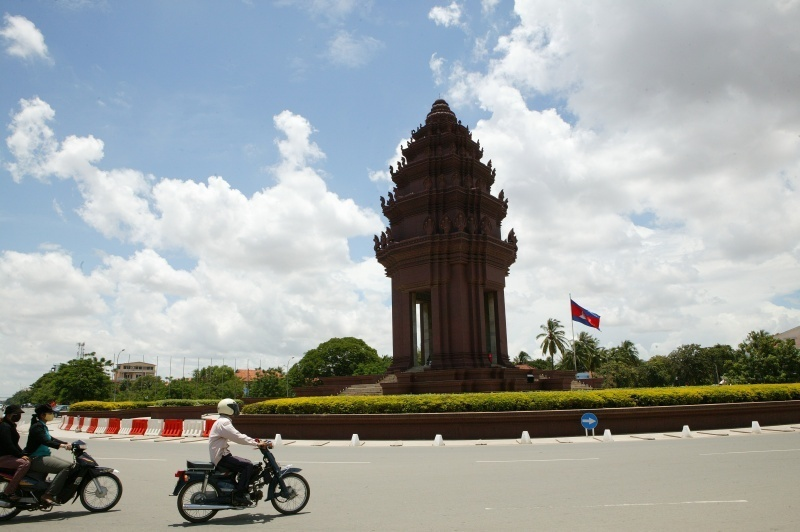non-vehicle: (170, 441, 309, 519), (0, 439, 128, 520)
